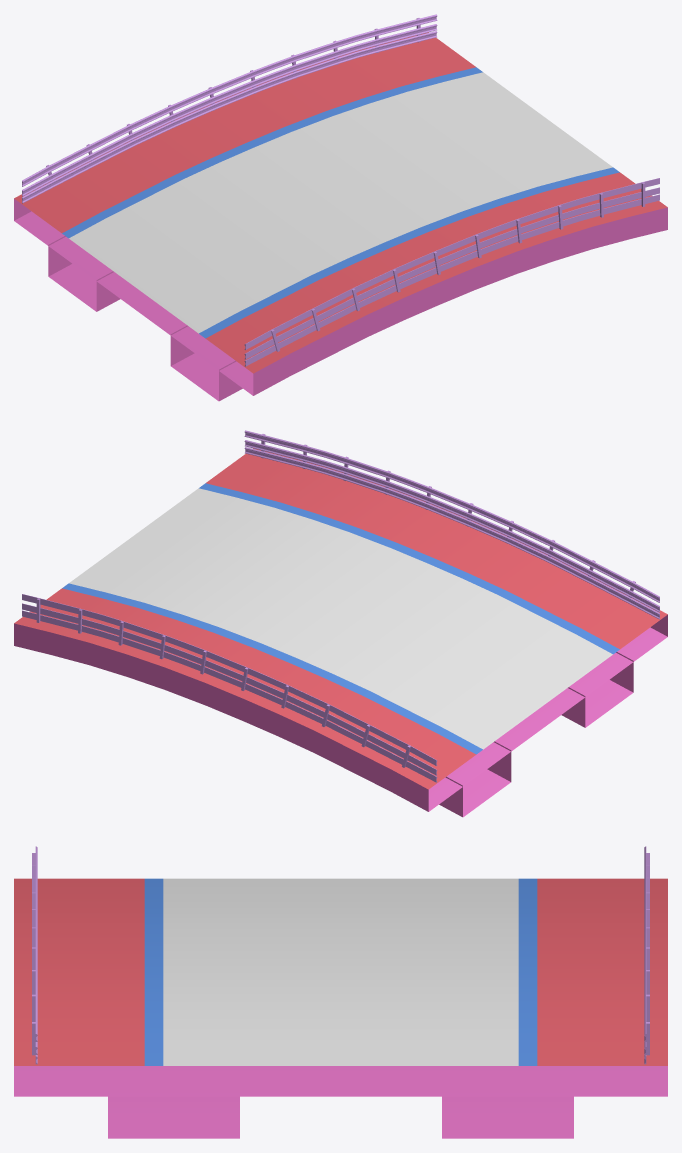
The model's file is RoadDown.fbx.
3 renders of one model, top to bottom at view 1: azimuth 30°, elevation 25°; view 2: azimuth 150°, elevation 25°; view 3: azimuth 270°, elevation 25°, orthographic. The views are drawn at different scales.
Visible parts, largest first — view 1: RoadRecht.003, RailingDown; view 2: RoadRecht.003, RailingDown; view 3: RoadRecht.003, RailingDown.
Boxes of the visible parts, box(x1,y1,x2,y2) form: RoadRecht.003: box(14, 32, 667, 401); RailingDown: box(22, 14, 659, 366); RoadRecht.003: box(14, 448, 667, 817); RailingDown: box(22, 430, 659, 782); RoadRecht.003: box(14, 878, 667, 1138); RailingDown: box(32, 846, 649, 1064).
Size of the model in its own units: 2000 by 653 by 2000.
